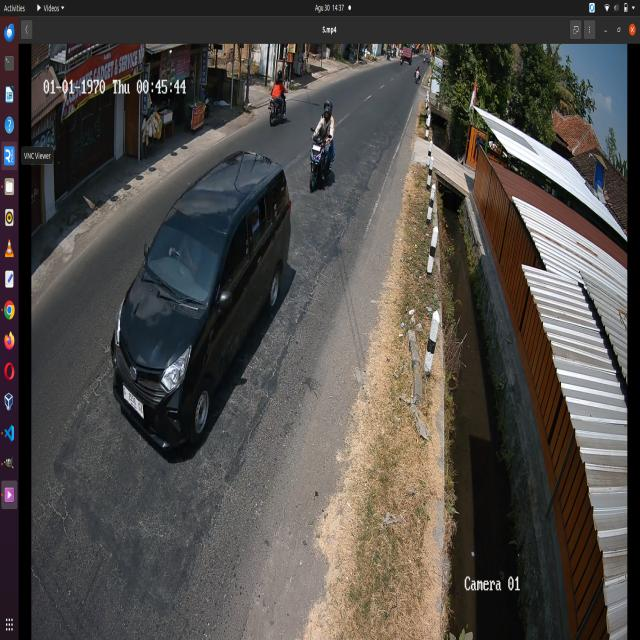person_without_seatbelt: (170, 218, 201, 282)
